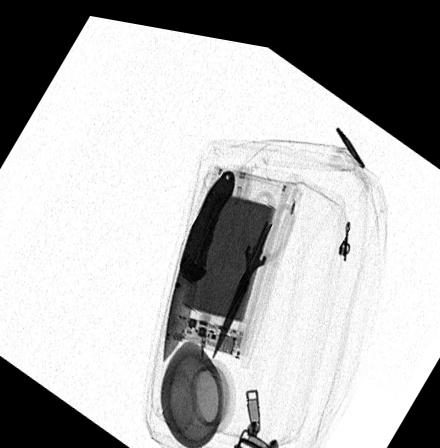Knife: (163, 162, 235, 357)
Powerbank: (159, 161, 296, 352)
Scissors: (211, 177, 294, 351)
